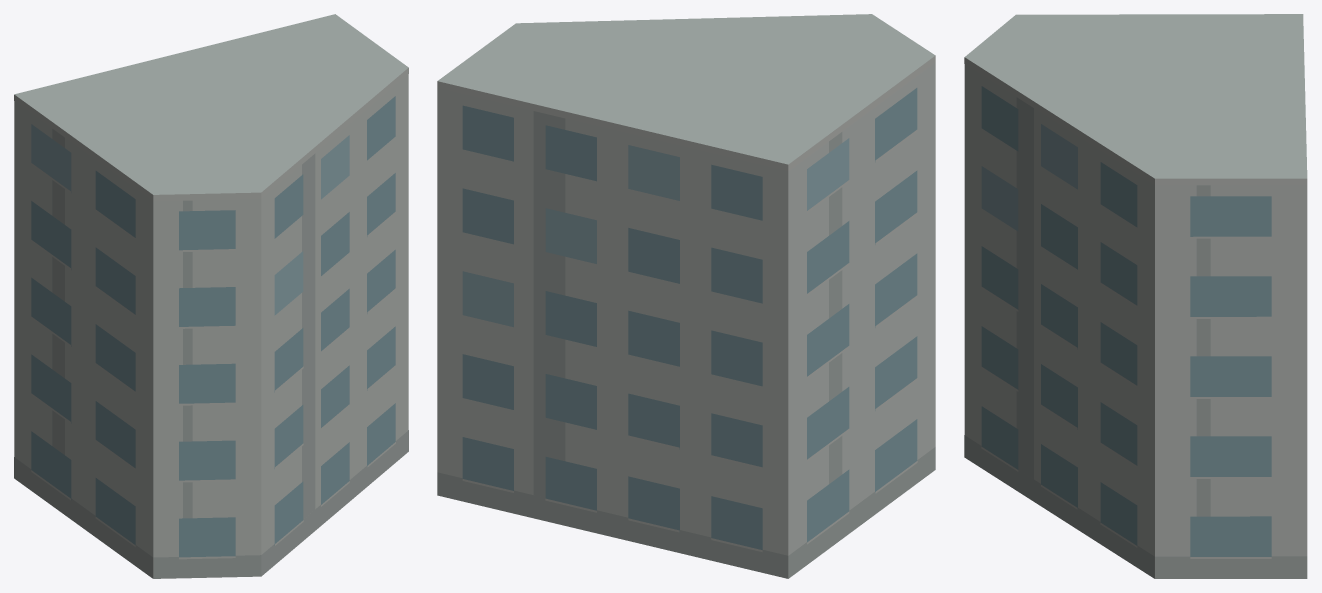
Rendered from survey-upis-32843642.glb.
3 views of the same model, side by side, from view 1: azimuth 30°, elevation 25°; view 2: azimuth 150°, elevation 25°; view 3: azimuth 270°, elevation 25° (orthographic). The views are drawn at different scales.
Parts seen in each view (by area): view 1: survey-upis-32843642.tmp; view 2: survey-upis-32843642.tmp; view 3: survey-upis-32843642.tmp.
Part boxes in pixels (box(x1,y1,x2,y2)): survey-upis-32843642.tmp: box(14, 14, 408, 578); survey-upis-32843642.tmp: box(437, 14, 935, 578); survey-upis-32843642.tmp: box(964, 14, 1307, 578).
Bounding box in the file's own units: 12.8 × 14.5 × 11.27.
